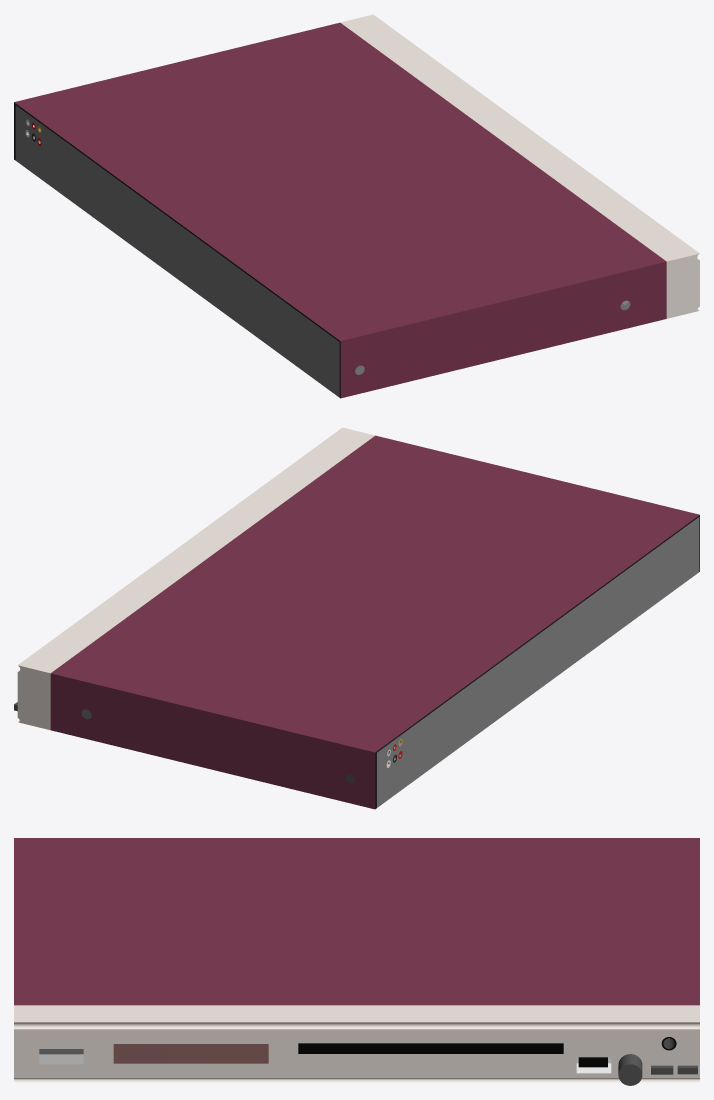
The picture shows the model from 3 angles, top to bottom: view 1: azimuth 30°, elevation 25°; view 2: azimuth 150°, elevation 25°; view 3: azimuth 270°, elevation 25°; orthographic projection. The views are drawn at different scales.
Parts seen in each view (by area): view 1: Mesh1_Model.001; view 2: Mesh1_Model.001; view 3: Mesh1_Model.001.
Boxes of the visible parts, x1,y1,x2,y2 form: Mesh1_Model.001: [14, 14, 699, 398]; Mesh1_Model.001: [14, 427, 699, 809]; Mesh1_Model.001: [14, 838, 699, 1085].
Bounding box in the file's own units: 0.65 × 0.0938 × 0.969.
